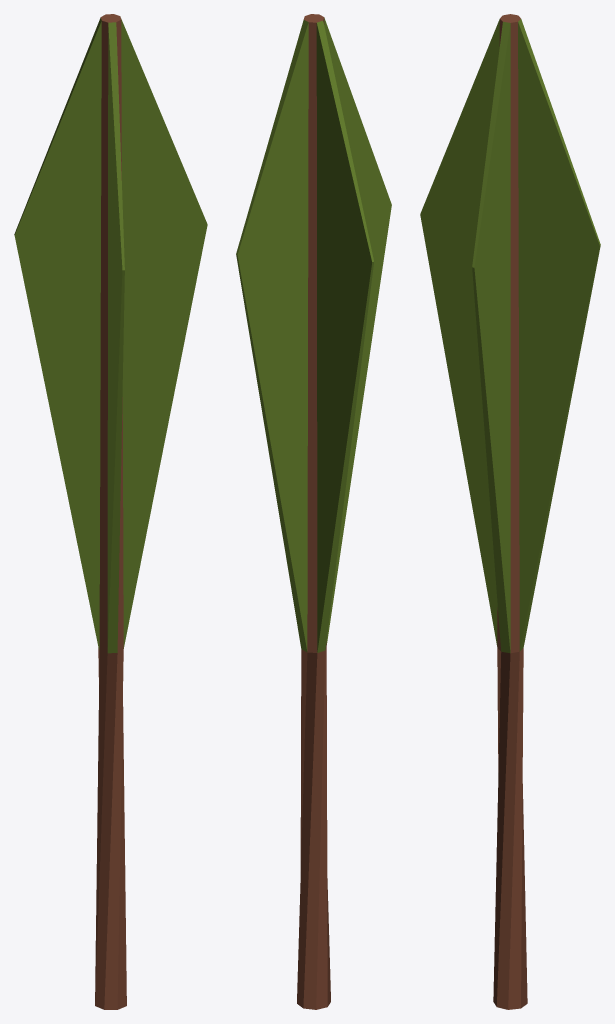
File: Tree_29_autumn_vc.fbx
The picture shows the model from 3 angles, left to right: view 1: azimuth 30°, elevation 25°; view 2: azimuth 150°, elevation 25°; view 3: azimuth 270°, elevation 25°; orthographic projection.
Parts seen in each view (by area): view 1: Tree_29_autumn_vc; view 2: Tree_29_autumn_vc; view 3: Tree_29_autumn_vc.
Boxes of the visible parts, x1,y1,x2,y2 form: Tree_29_autumn_vc: (14,14,207,1009); Tree_29_autumn_vc: (236,14,391,1009); Tree_29_autumn_vc: (420,14,600,1009).
Size of the model in its own units: 1.27 by 7.66 by 1.27.
